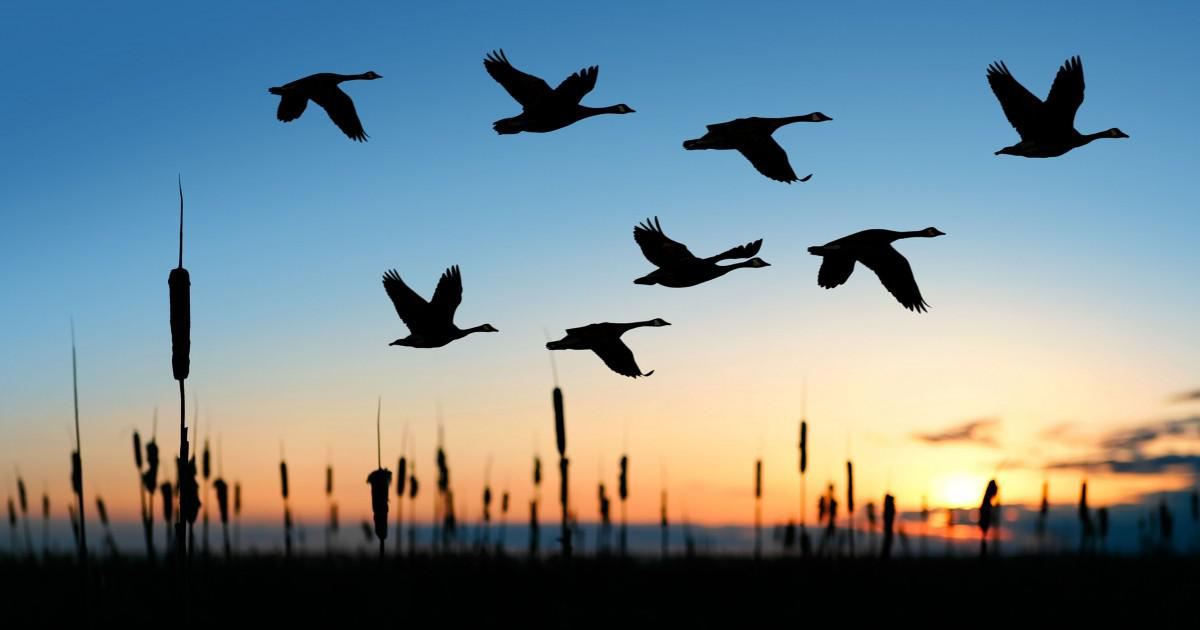bird: (974, 40, 1135, 169), (795, 218, 966, 318), (478, 39, 637, 145), (666, 101, 838, 191), (367, 253, 503, 364), (602, 209, 776, 293), (260, 54, 398, 150), (533, 308, 676, 382)
